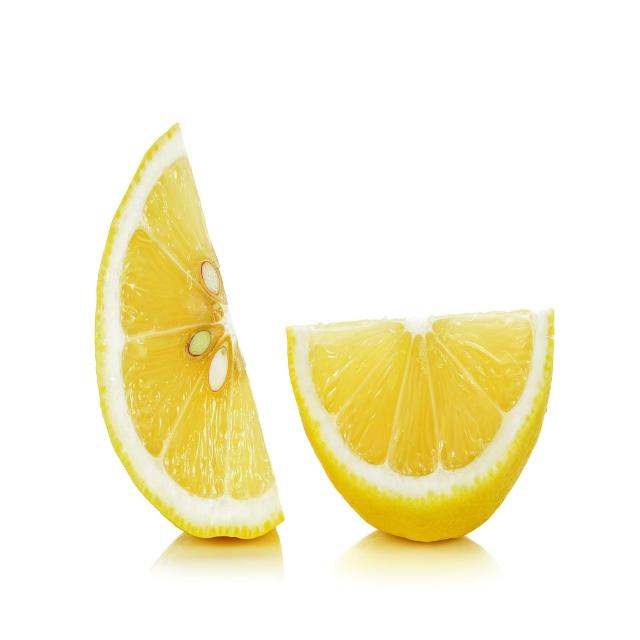lemon: (91, 110, 290, 543), (284, 296, 561, 549)
